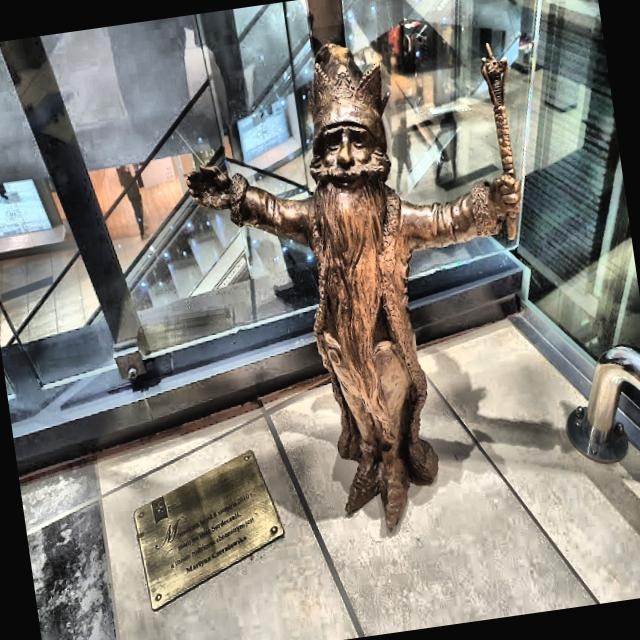Serdecznis: (187, 43, 521, 529)
